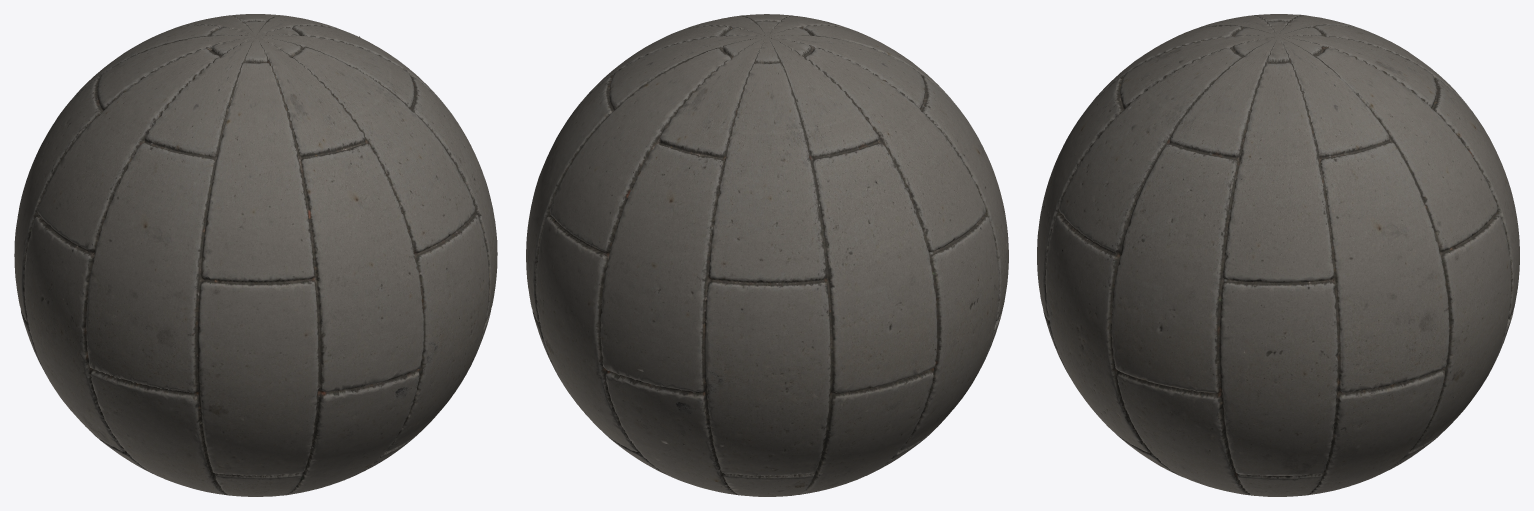
File: concrete_tiles_02_1k.gltf
3 renders of one model, left to right at view 1: azimuth 30°, elevation 25°; view 2: azimuth 150°, elevation 25°; view 3: azimuth 270°, elevation 25°, orthographic.
Visible parts, largest first — view 1: sphere_gltf; view 2: sphere_gltf; view 3: sphere_gltf.
Boxes of the visible parts, x1,y1,x2,y2 form: sphere_gltf: [14, 14, 497, 496]; sphere_gltf: [526, 14, 1008, 496]; sphere_gltf: [1037, 14, 1519, 496].
Bounding box in the file's own units: 1.84 × 1.84 × 1.84.
1 material, 1 textured.
